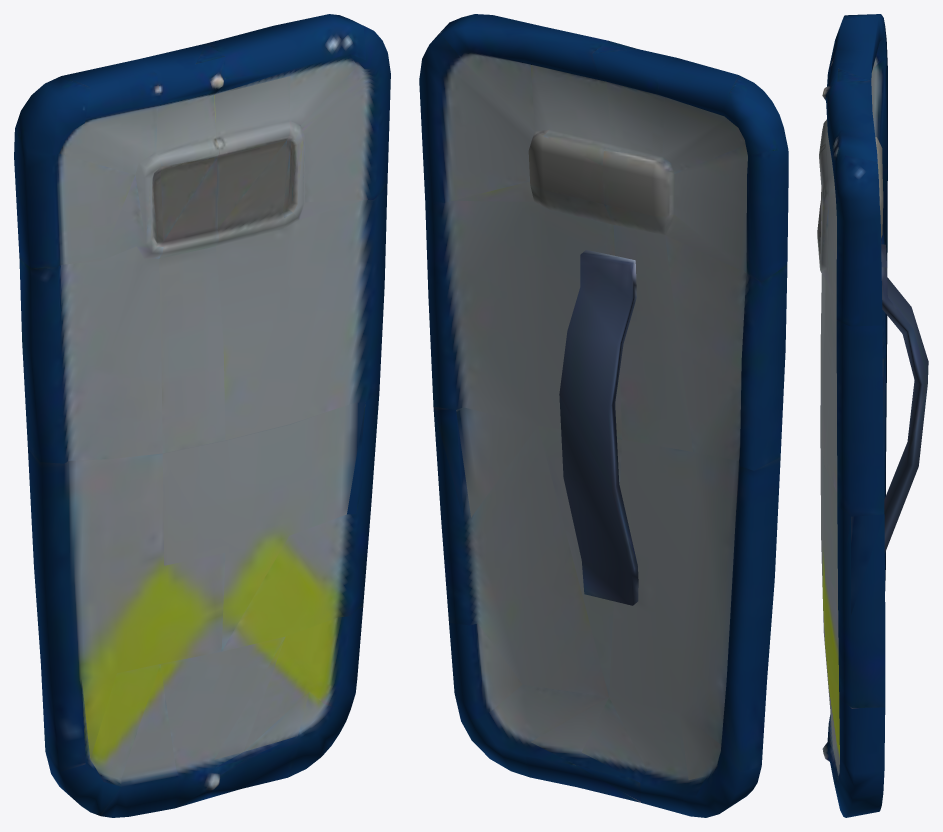
Rendered from m_shield_crest.fbx.
The picture shows the model from 3 angles, left to right: view 1: azimuth 30°, elevation 25°; view 2: azimuth 150°, elevation 25°; view 3: azimuth 270°, elevation 25°; orthographic projection. The views are drawn at different scales.
Visible parts, largest first — view 1: tripo_node_cdfcce38-8cc5-4d3e-9b54-8f14a6e53ac8; view 2: tripo_node_cdfcce38-8cc5-4d3e-9b54-8f14a6e53ac8; view 3: tripo_node_cdfcce38-8cc5-4d3e-9b54-8f14a6e53ac8.
Boxes of the visible parts, x1,y1,x2,y2 form: tripo_node_cdfcce38-8cc5-4d3e-9b54-8f14a6e53ac8: (14, 14, 390, 817); tripo_node_cdfcce38-8cc5-4d3e-9b54-8f14a6e53ac8: (419, 14, 788, 817); tripo_node_cdfcce38-8cc5-4d3e-9b54-8f14a6e53ac8: (817, 14, 928, 817).
Size of the model in its own units: 0.4868 by 0.95 by 0.1369.
1 material, 1 textured.
